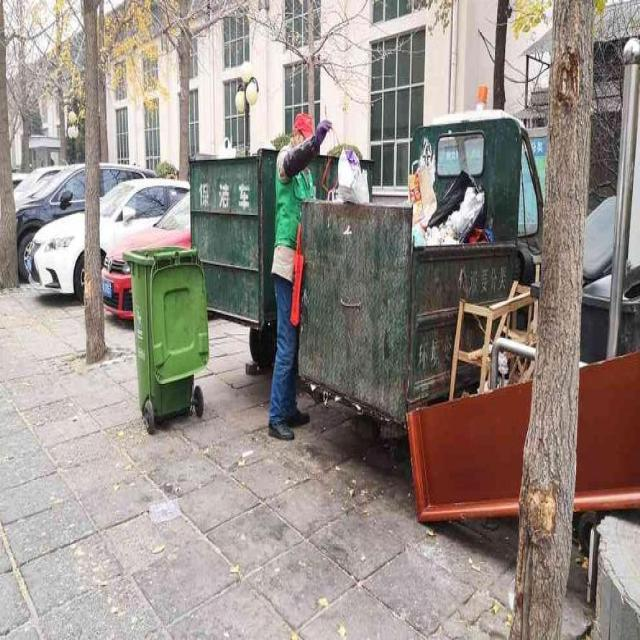garbage_bin: (126, 248, 208, 415)
